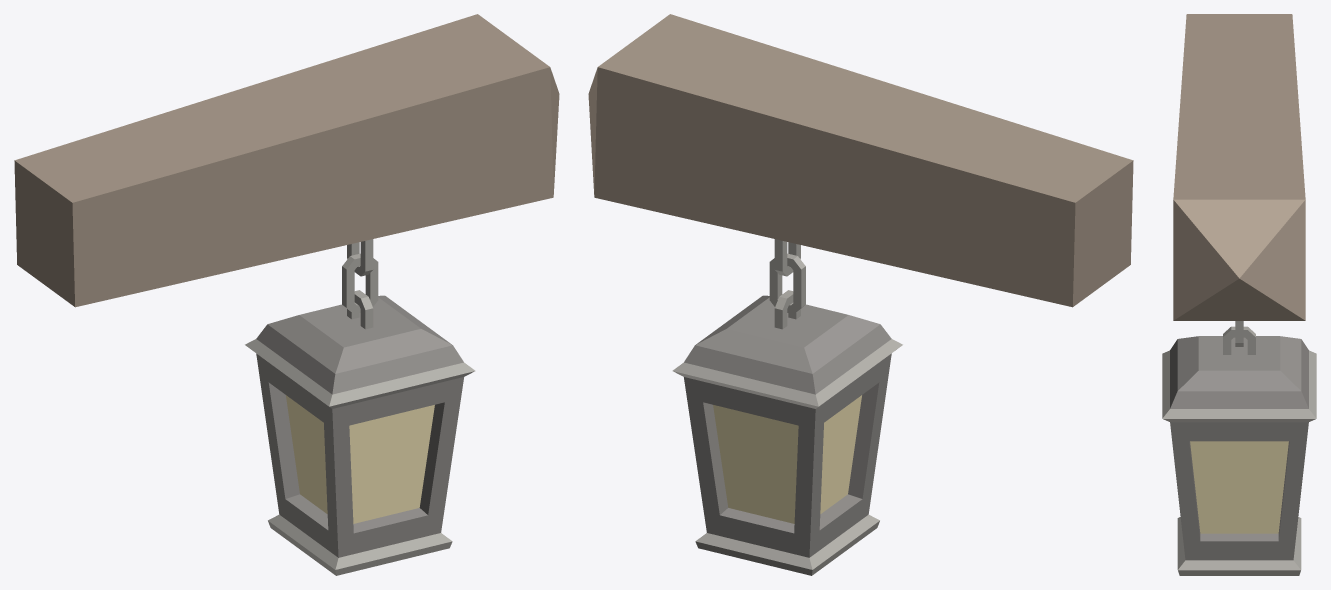
File: Wall_Prop_Lamp.glb
3 renders of one model, left to right at view 1: azimuth 30°, elevation 25°; view 2: azimuth 150°, elevation 25°; view 3: azimuth 270°, elevation 25°, orthographic. The views are drawn at different scales.
Visible parts, largest first — view 1: Wall_Prop_Lamp; view 2: Wall_Prop_Lamp; view 3: Wall_Prop_Lamp.
Boxes of the visible parts, <box> form: Wall_Prop_Lamp: <box>14,14,559,575</box>; Wall_Prop_Lamp: <box>588,14,1133,575</box>; Wall_Prop_Lamp: <box>1162,14,1316,575</box>.
Bounding box in the file's own units: 0.4338 × 0.3696 × 0.1232.
